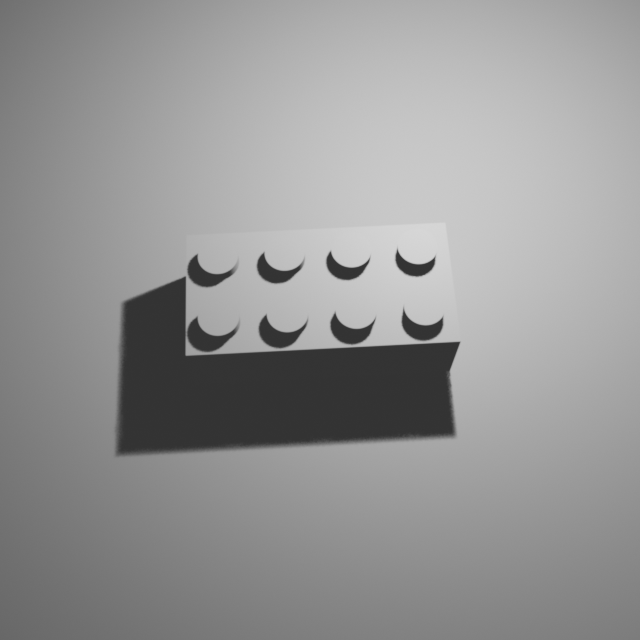lego_2x4: (184, 216, 463, 384)
